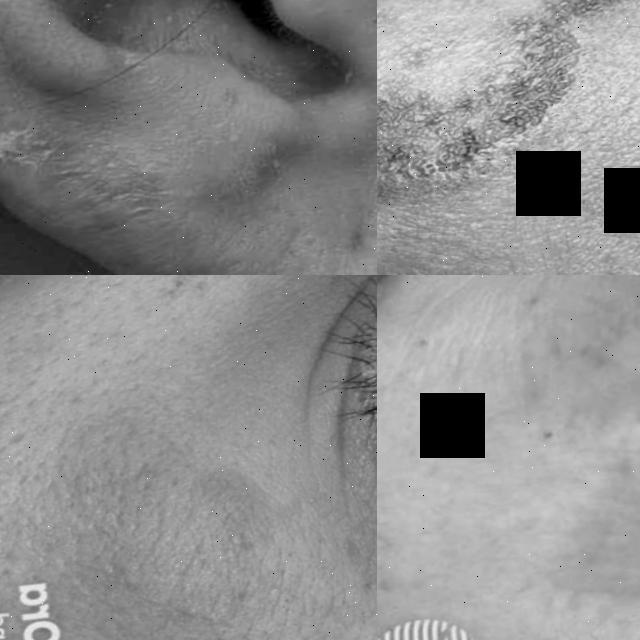lupus-detected: (7, 351, 341, 640), (437, 275, 640, 640), (377, 0, 640, 275), (0, 0, 243, 275)
